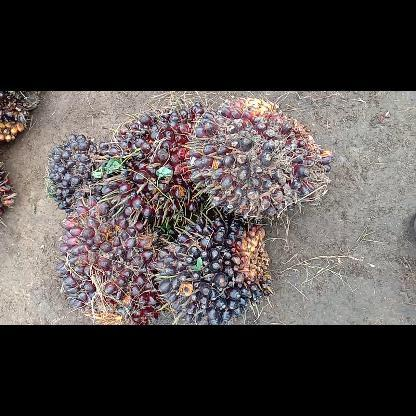TBS mentah: (185, 96, 335, 228), (55, 194, 167, 324), (101, 100, 215, 222), (152, 214, 275, 324), (43, 133, 109, 217)
